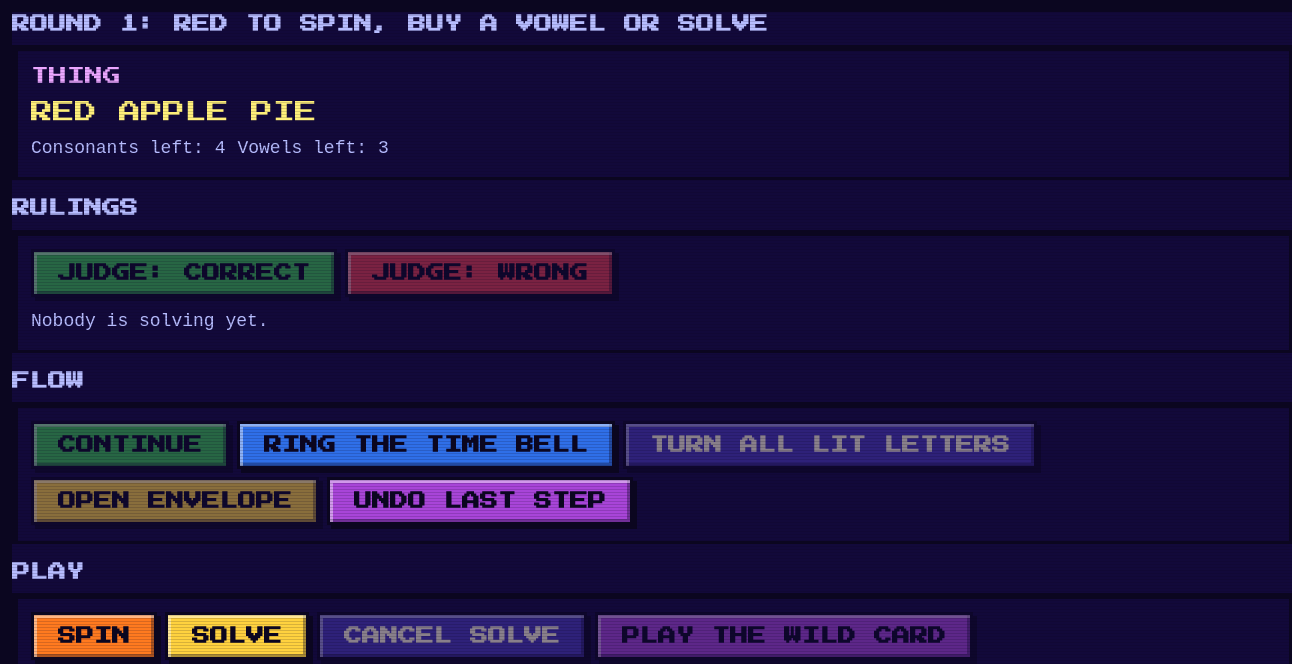
Test: WheelConsole: commands › says so when the stage refused a command from an old screen
Click the button "Spin" at (94, 636), box [31,612,157,660]
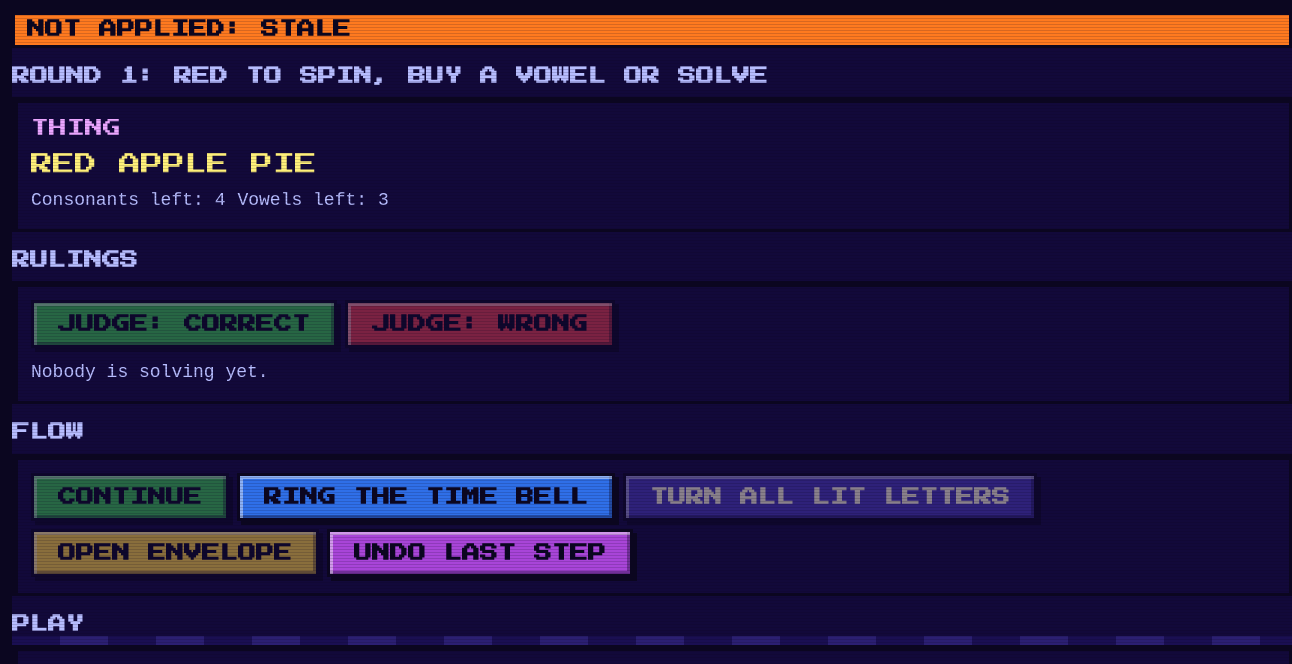
Result: the message reads "Not applied: stale" at [27,20,351,38]
